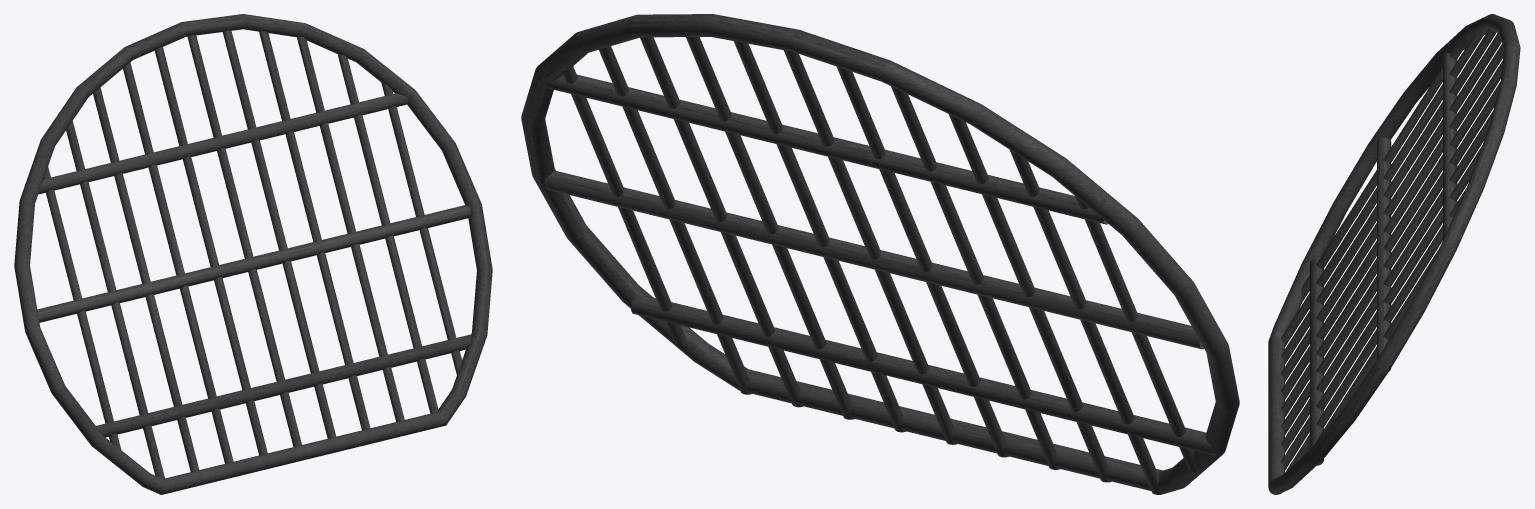
The model's file is PortaEsgoto.dae.
3 renders of one model, left to right at view 1: azimuth 30°, elevation 25°; view 2: azimuth 150°, elevation 25°; view 3: azimuth 270°, elevation 25°, orthographic. The views are drawn at different scales.
Parts seen in each view (by area): view 1: group_0 (×15); view 2: group_0 (×15); view 3: group_0 (×15).
Boxes of the visible parts, x1,y1,x2,y2 form: group_0 (×15): (14, 14, 492, 494); group_0 (×15): (521, 14, 1239, 494); group_0 (×15): (1268, 14, 1520, 494).
Bounding box in the file's own units: 108 × 48.42 × 79.98.
Materials: 1 (1 with a texture image).
